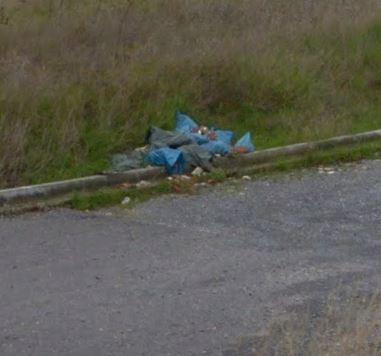trash: (107, 105, 256, 191)
